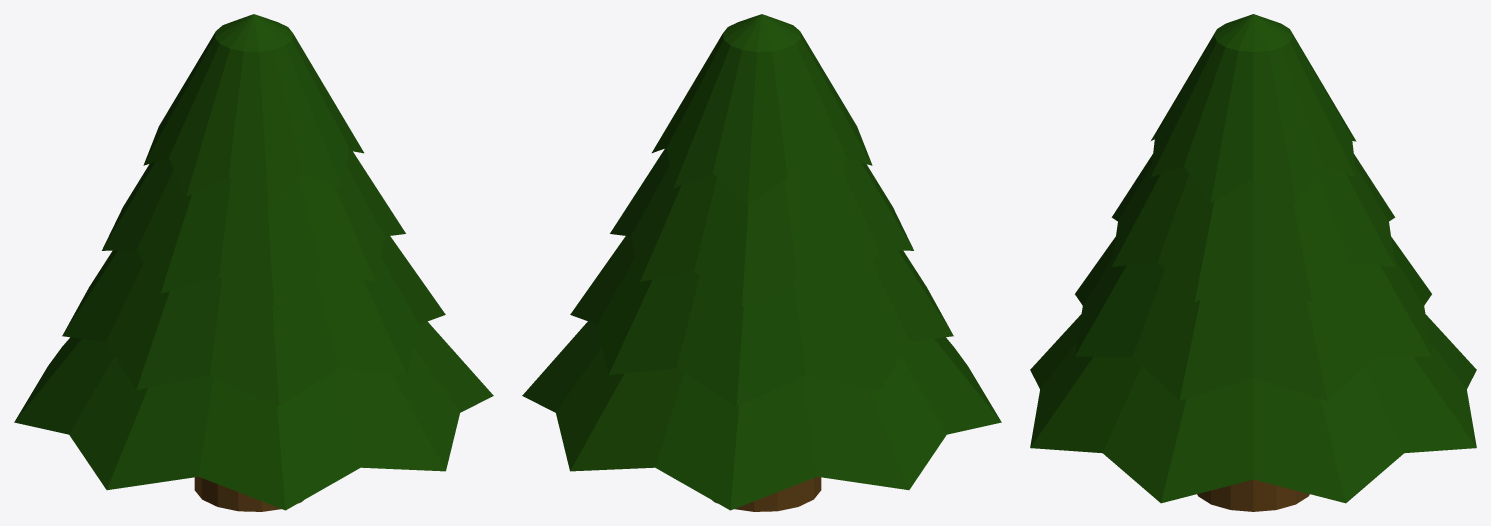
Rendered from Baum.fbx.
3 views of the same model, side by side, from view 1: azimuth 30°, elevation 25°; view 2: azimuth 150°, elevation 25°; view 3: azimuth 270°, elevation 25° (orthographic).
Visible parts, largest first — view 1: Cylinder; view 2: Cylinder; view 3: Cylinder.
Part boxes in pixels (x1,y1,x2,y2): Cylinder: (14,14,493,511); Cylinder: (522,14,1001,511); Cylinder: (1030,14,1476,511).
Bounding box in the file's own units: 453 × 529 × 453.
